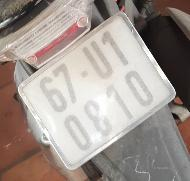0: (119, 64, 158, 112), (54, 110, 91, 158)
1: (101, 82, 138, 135), (96, 27, 135, 74)
6: (32, 66, 72, 117)
7: (50, 57, 85, 107)
9: (74, 95, 115, 147)
U: (81, 39, 120, 87)
